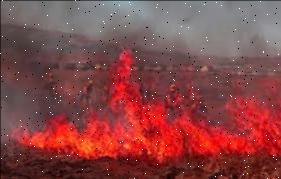fire: (15, 50, 281, 161)
